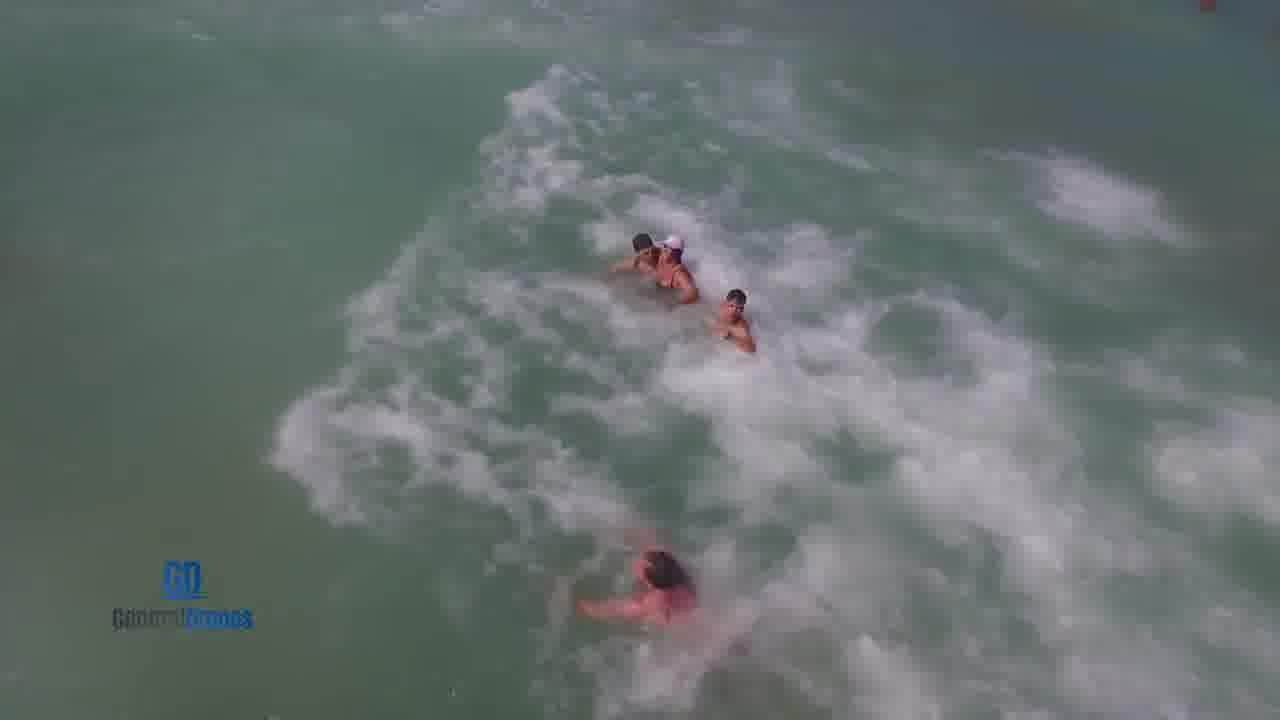human: (570, 526, 727, 631), (704, 279, 763, 359), (650, 228, 697, 314), (601, 227, 656, 276)
